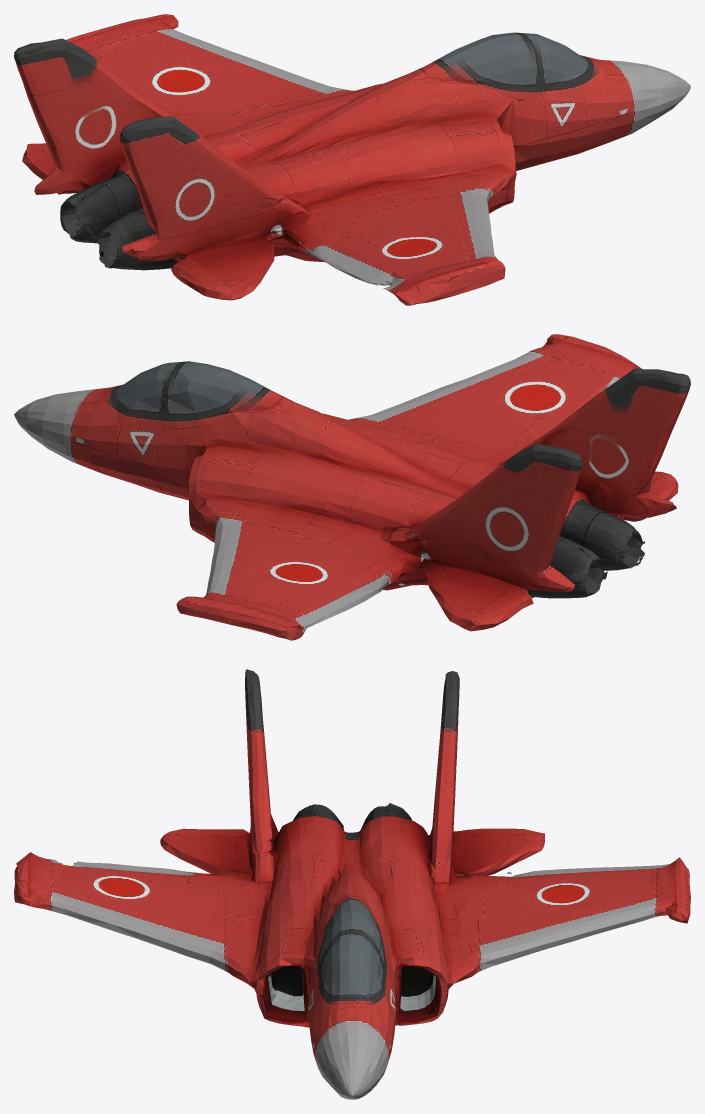
File: tripo_convert_d85bde62-ea52-4eff-a466-742dbe481b98.obj
The picture shows the model from 3 angles, top to bottom: view 1: azimuth 30°, elevation 25°; view 2: azimuth 150°, elevation 25°; view 3: azimuth 270°, elevation 25°; orthographic projection. The views are drawn at different scales.
Parts seen in each view (by area): view 1: tripo_node_d85bde62-ea52-4eff-a466-742dbe481b98; view 2: tripo_node_d85bde62-ea52-4eff-a466-742dbe481b98; view 3: tripo_node_d85bde62-ea52-4eff-a466-742dbe481b98.
Part boxes in pixels (bbox=[...]): tripo_node_d85bde62-ea52-4eff-a466-742dbe481b98: bbox=[14, 14, 690, 305]; tripo_node_d85bde62-ea52-4eff-a466-742dbe481b98: bbox=[14, 334, 690, 640]; tripo_node_d85bde62-ea52-4eff-a466-742dbe481b98: bbox=[14, 669, 690, 1099].
Size of the model in its own units: 0.9738 by 0.3014 by 0.9696.
1 material, 1 textured.
